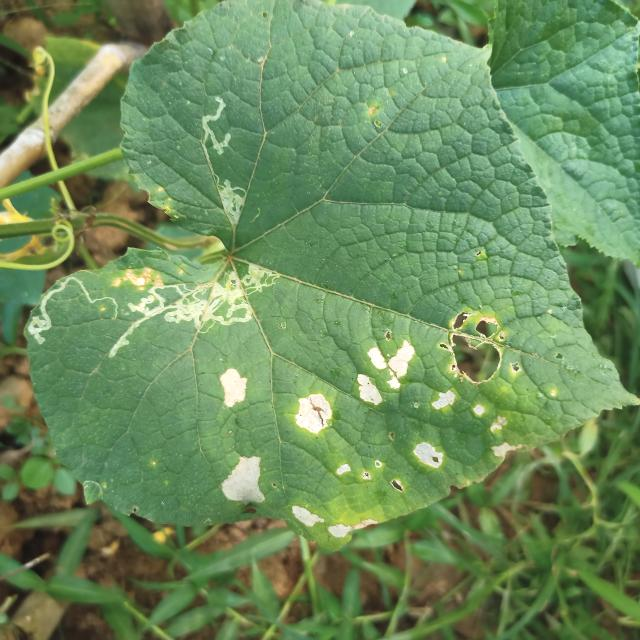disease_cucumber: (290, 312, 568, 543), (214, 357, 273, 510)
